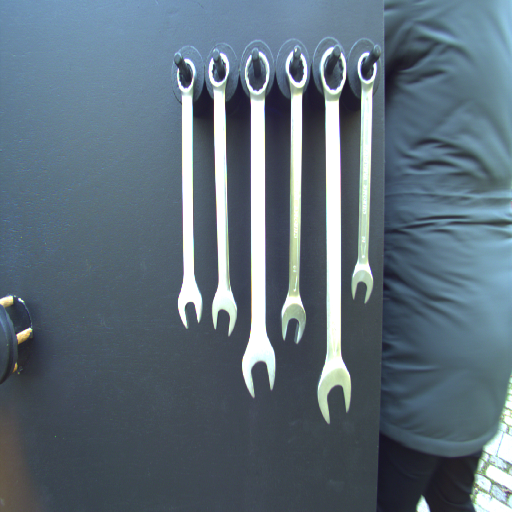bottom: (239, 337, 279, 401), (315, 364, 355, 428), (210, 284, 238, 340), (175, 282, 205, 331), (279, 292, 306, 343), (350, 262, 375, 307)
top: (317, 43, 348, 104), (282, 44, 310, 98), (242, 49, 271, 101), (172, 56, 199, 96), (208, 51, 233, 89), (356, 49, 379, 89)
